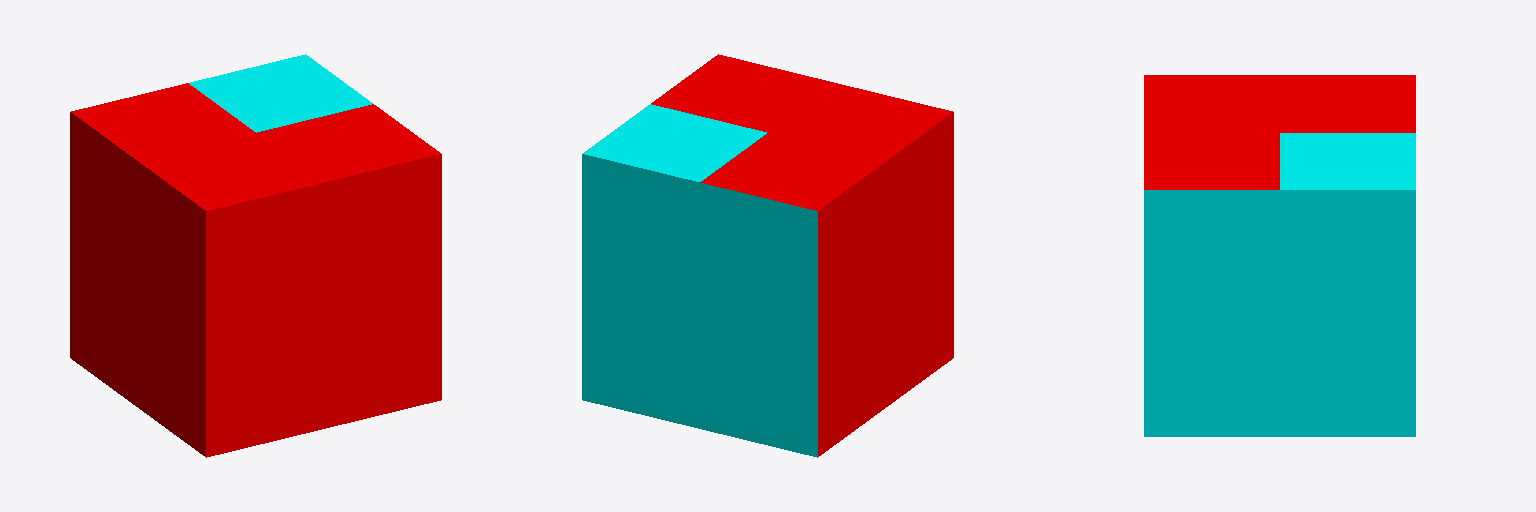
Rendered from Explosion2.obj.
3 renders of one model, left to right at view 1: azimuth 30°, elevation 25°; view 2: azimuth 150°, elevation 25°; view 3: azimuth 270°, elevation 25°, orthographic.
Parts seen in each view (by area): view 1: pCube3; view 2: pCube3; view 3: pCube3.
Part boxes in pixels (left/top/right/bottom): pCube3: left=70, top=54, right=441, bottom=457; pCube3: left=582, top=54, right=953, bottom=457; pCube3: left=1144, top=75, right=1415, bottom=436.
Bounding box in the file's own units: 0.1 × 0.1 × 0.1.